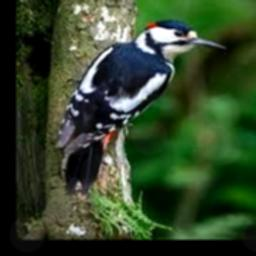Woodpecker: (54, 19, 226, 194)
